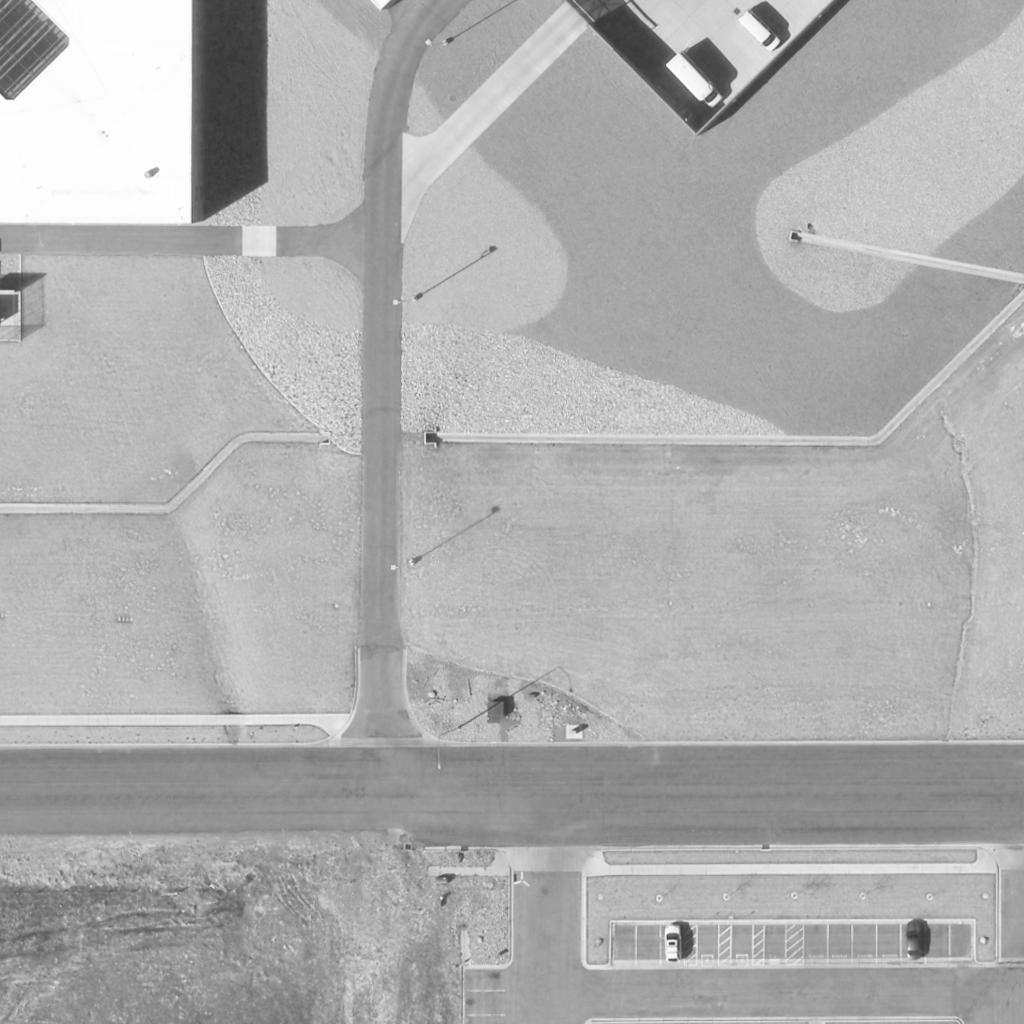vehicle: (666, 54, 724, 110), (738, 10, 782, 52), (906, 919, 926, 961), (664, 925, 682, 965)
